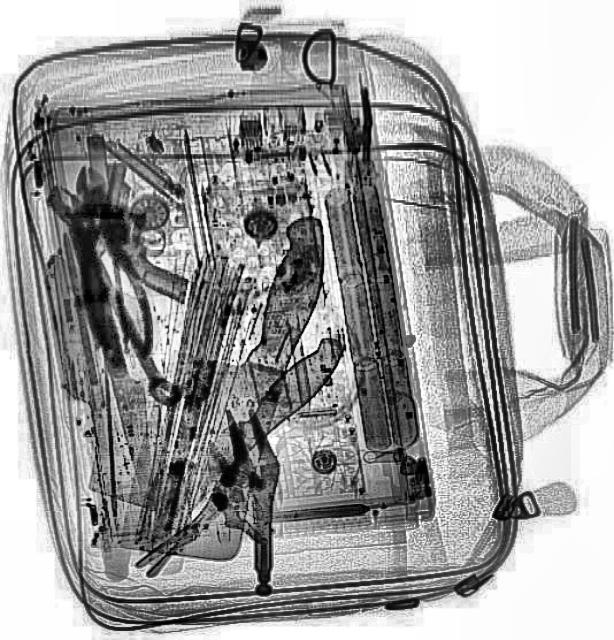Gun: (75, 161, 217, 301)
Knife: (110, 190, 336, 574), (124, 329, 356, 547)
